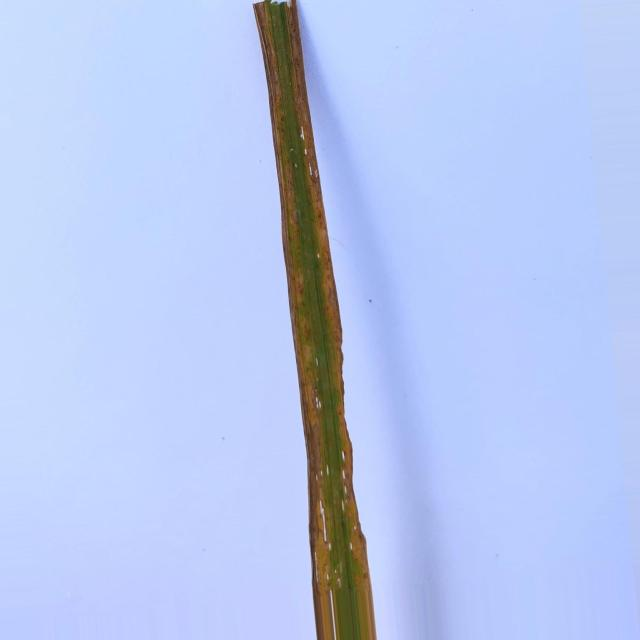Rice Tungro: (253, 0, 376, 639)
